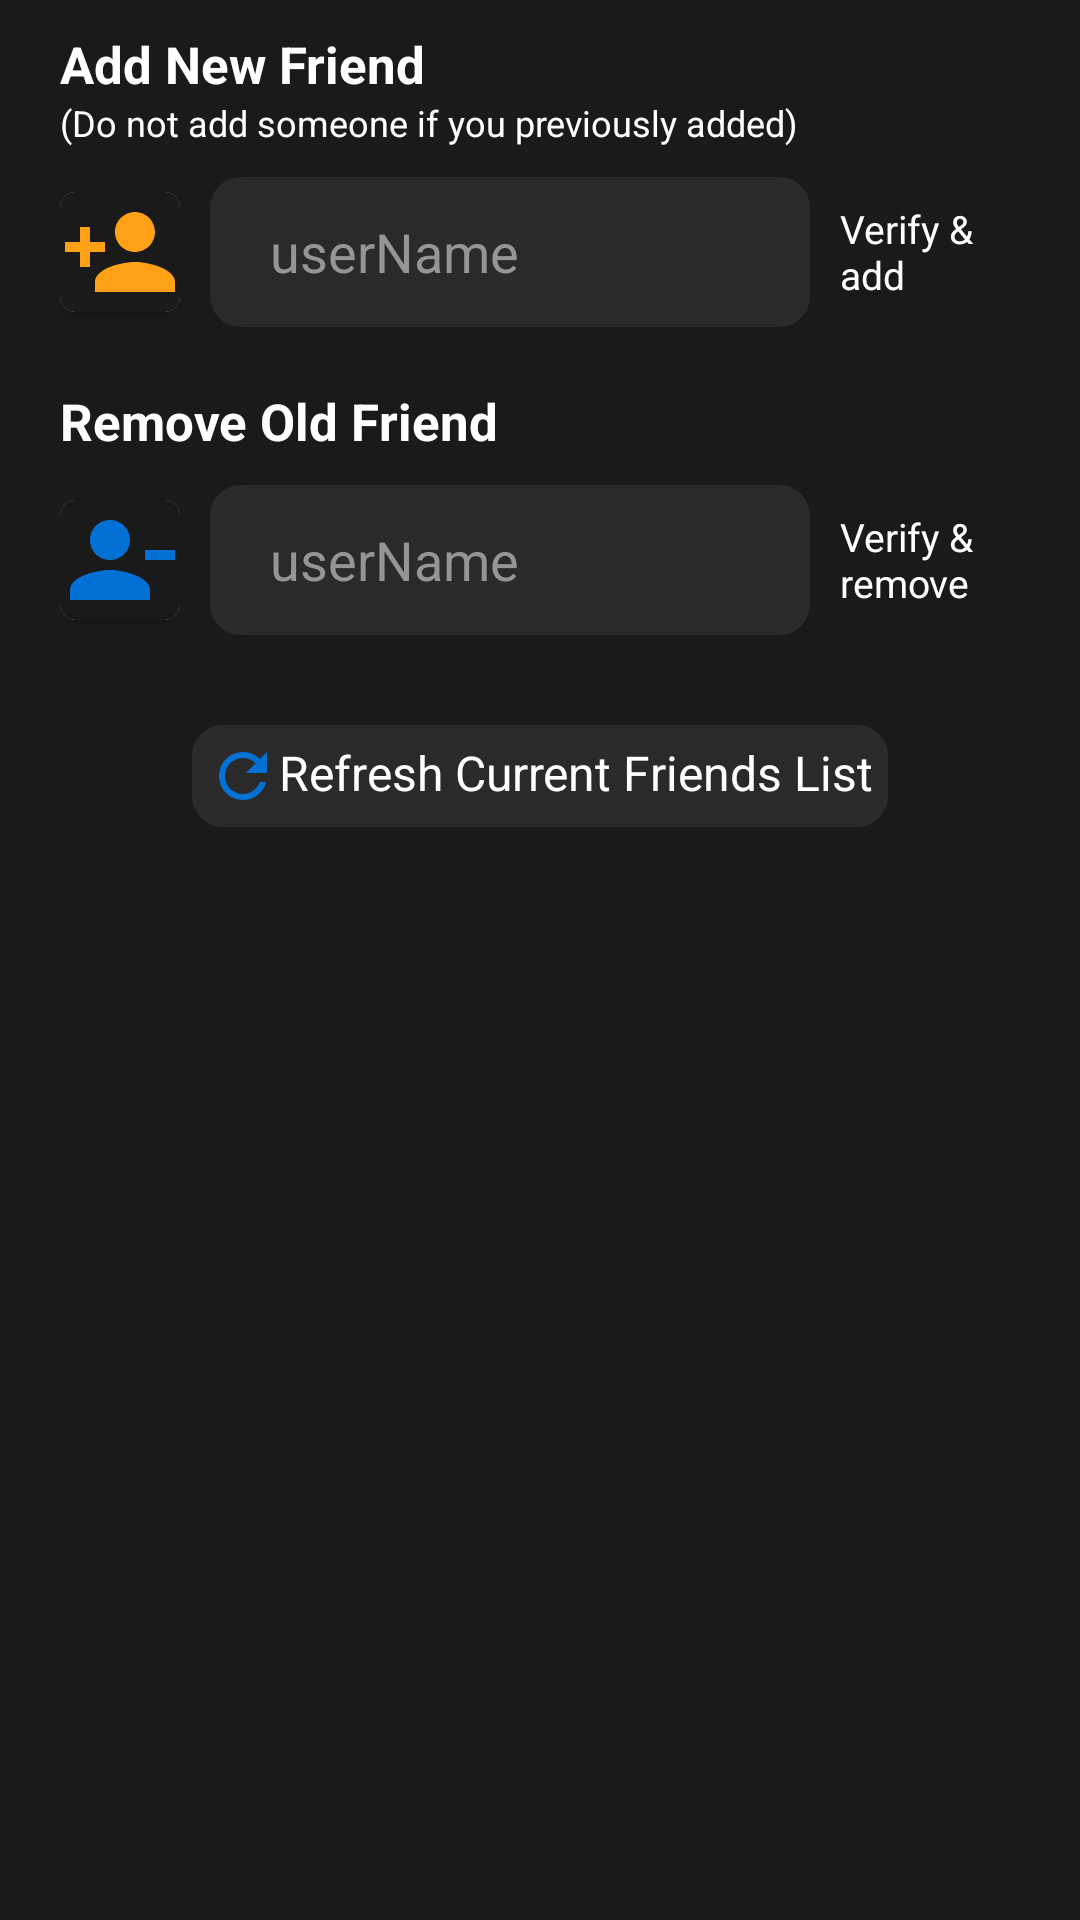

Screen size 1080*1920. Icon name, then its center in pixels as (x=x, y=y):
person add: (x=120, y=252)
person remove: (x=120, y=560)
